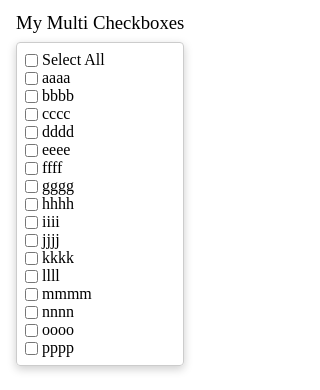
MultiCheck › User interaction › A checkbox is checked › If select all checkbox is clicked, all checkboxes are checked or unchecked
The width and height of the screenshot is (320, 390).
Expected: the checkbox labelled "aaaa" is not checked, [25,72,38,84]
Expected: the checkbox labelled "bbbb" is not checked, [25,90,38,102]
Click select all checkbox
Click the checkbox labelled "Select All": [32, 60] box [25,54,38,66]
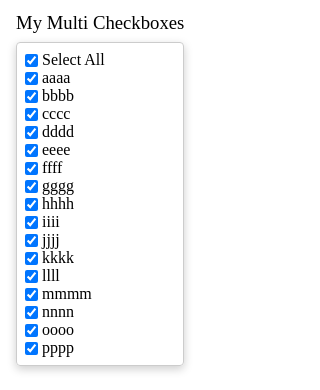
Expected: the checkbox labelled "Select All" is checked
Expected: the checkbox labelled "aaaa" is checked, [25,72,38,84]
Expected: the checkbox labelled "bbbb" is checked, [25,90,38,102]
Click the checkbox labelled "Select All": [32, 60] box [25,54,38,66]
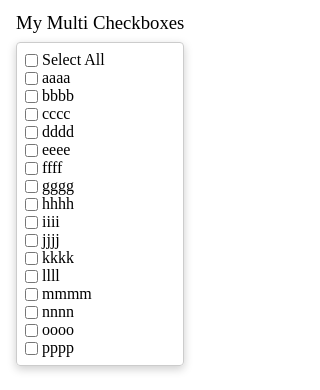
Expected: the checkbox labelled "Select All" is not checked, [25,54,38,66]
Expected: the checkbox labelled "aaaa" is not checked, [25,72,38,84]
Expected: the checkbox labelled "bbbb" is not checked, [25,90,38,102]
